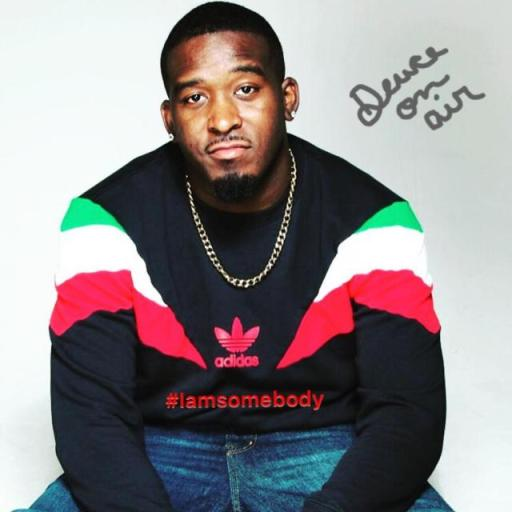Adidas: (212, 315, 261, 368)
